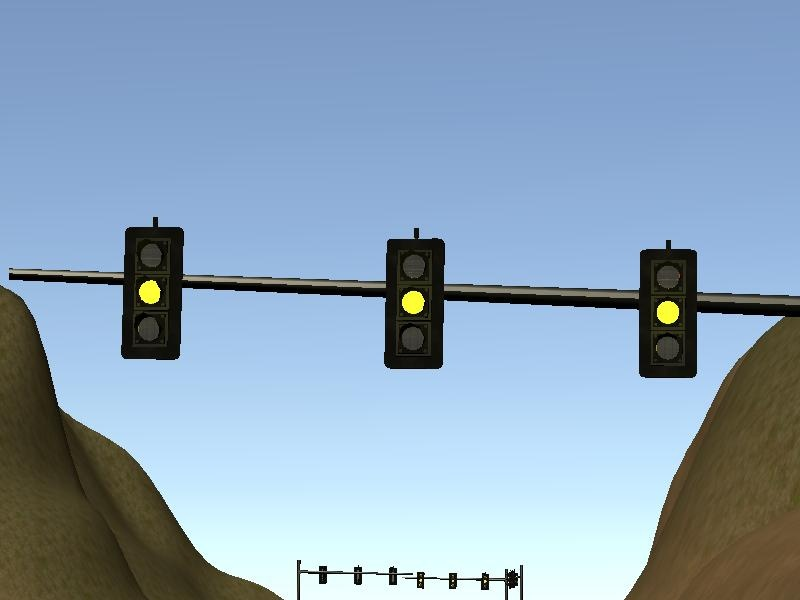YELLOW: (121, 226, 183, 359), (384, 237, 445, 369), (639, 251, 696, 377)
